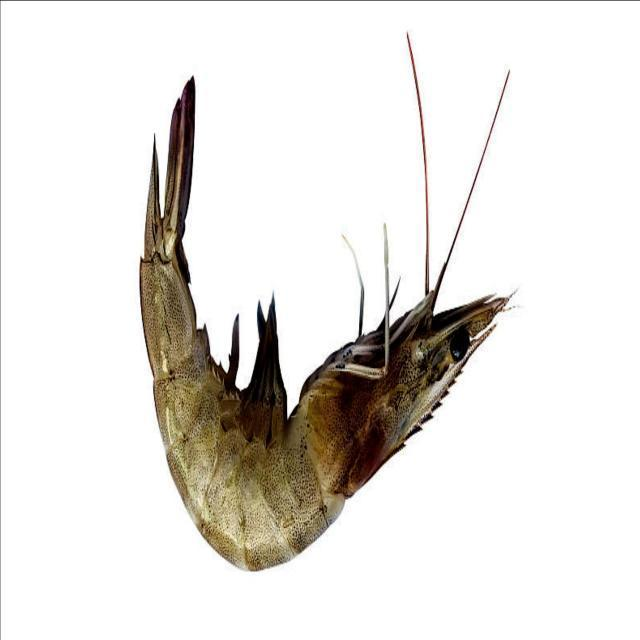shrimp: (140, 79, 507, 569)
